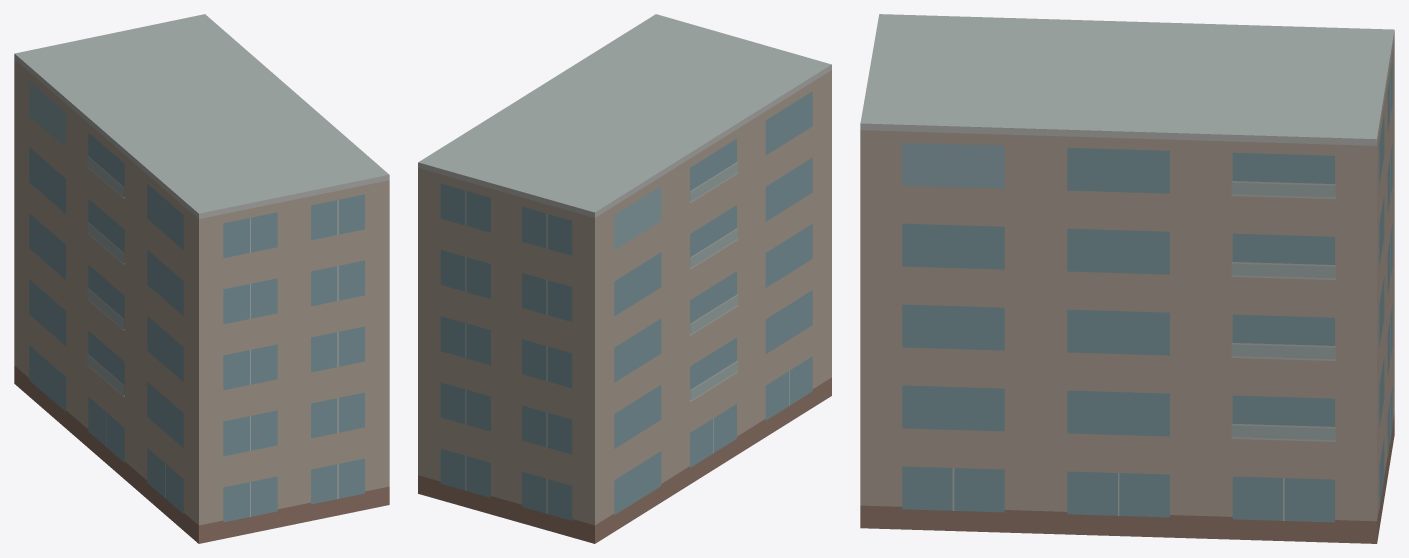
The model's file is survey-upis-32877736.glb.
3 views of the same model, side by side, from view 1: azimuth 30°, elevation 25°; view 2: azimuth 150°, elevation 25°; view 3: azimuth 270°, elevation 25° (orthographic). The views are drawn at different scales.
Parts seen in each view (by area): view 1: survey-upis-32877736.tmp; view 2: survey-upis-32877736.tmp; view 3: survey-upis-32877736.tmp.
Boxes of the visible parts, box(x1,y1,x2,y2) form: survey-upis-32877736.tmp: box(14, 14, 389, 543); survey-upis-32877736.tmp: box(418, 14, 831, 543); survey-upis-32877736.tmp: box(860, 14, 1394, 543).
Bounding box in the file's own units: 9.76 × 14.7 × 17.6.
